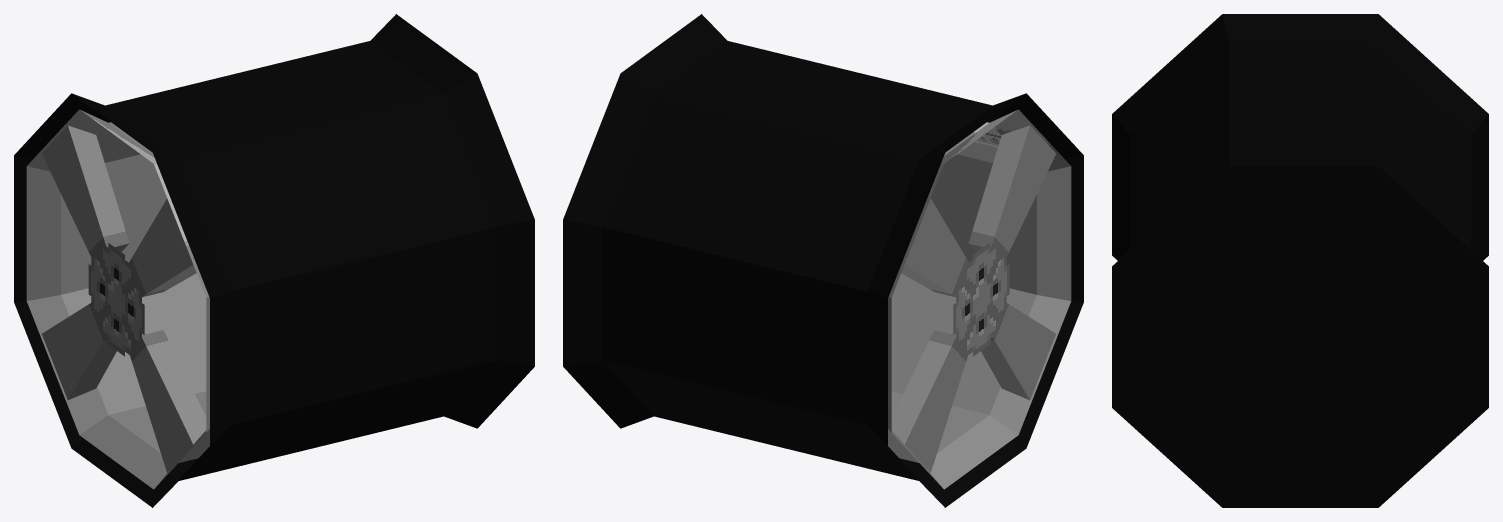
File: Breeze_Forged_Wheel.gltf
3 renders of one model, left to right at view 1: azimuth 30°, elevation 25°; view 2: azimuth 150°, elevation 25°; view 3: azimuth 270°, elevation 25°, orthographic. The views are drawn at different scales.
Parts seen in each view (by area): view 1: WheelOutline, Wheel, Spoke (×4); view 2: WheelOutline, Wheel, Spoke (×4); view 3: WheelOutline.
Boxes of the visible parts, box(x1,y1,x2,y2) form: WheelOutline: box(14, 14, 534, 507); Wheel: box(26, 109, 209, 489); Spoke (×4): box(42, 125, 206, 472); WheelOutline: box(563, 14, 1083, 507); Wheel: box(888, 109, 1071, 489); Spoke (×4): box(891, 125, 1055, 472); WheelOutline: box(1112, 14, 1488, 507).
Size of the model in its own units: 0.3169 by 0.3313 by 0.3313.
Materials: 2 (2 with a texture image).
